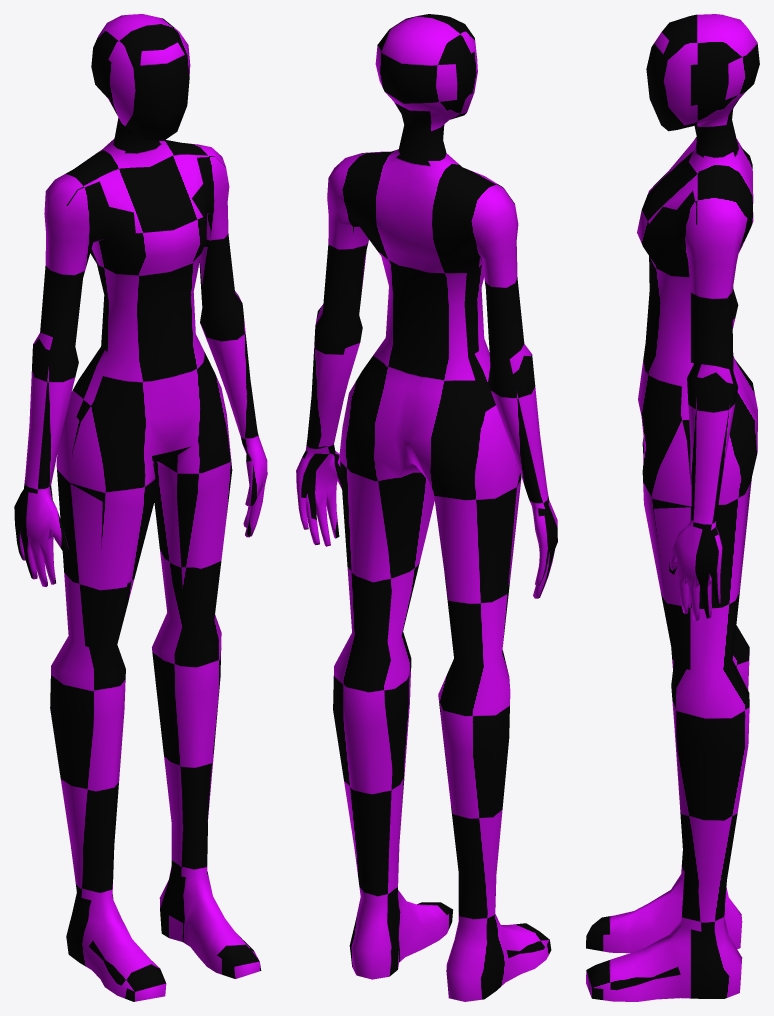
The model's file is Protagonist.fbx.
3 renders of one model, left to right at view 1: azimuth 30°, elevation 25°; view 2: azimuth 150°, elevation 25°; view 3: azimuth 270°, elevation 25°, orthographic. The views are drawn at different scales.
Visible parts, largest first — view 1: Protagonist; view 2: Protagonist; view 3: Protagonist.
Boxes of the visible parts, x1,y1,x2,y2 form: Protagonist: (14, 14, 267, 1001); Protagonist: (296, 14, 557, 1001); Protagonist: (586, 14, 759, 1001).
Bounding box in the file's own units: 46.67 × 170 × 28.15.
Materials: 1 (1 with a texture image).
